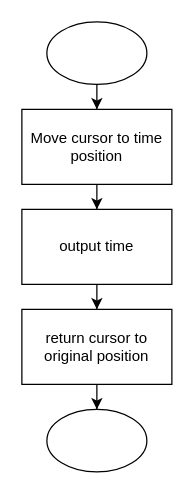
Image size: 194x494. Some labels were removed from this diagram. The centre of each missing label's shape, as x and y in pixels:
"Start" goes at pixel 96 52.
"Stop" goes at pixel 96 440.
